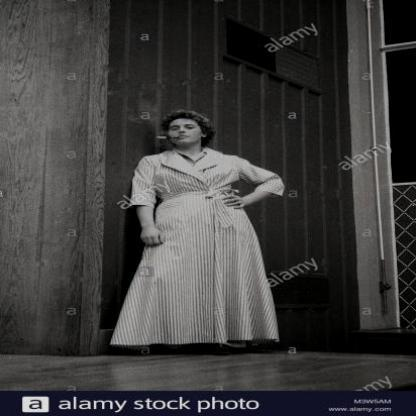cigarette: (155, 135, 173, 140)
person: (115, 108, 286, 352)
